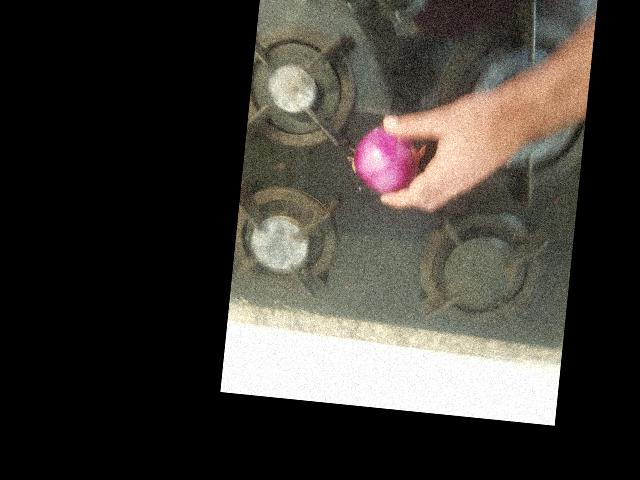onion: (355, 122, 420, 198)
